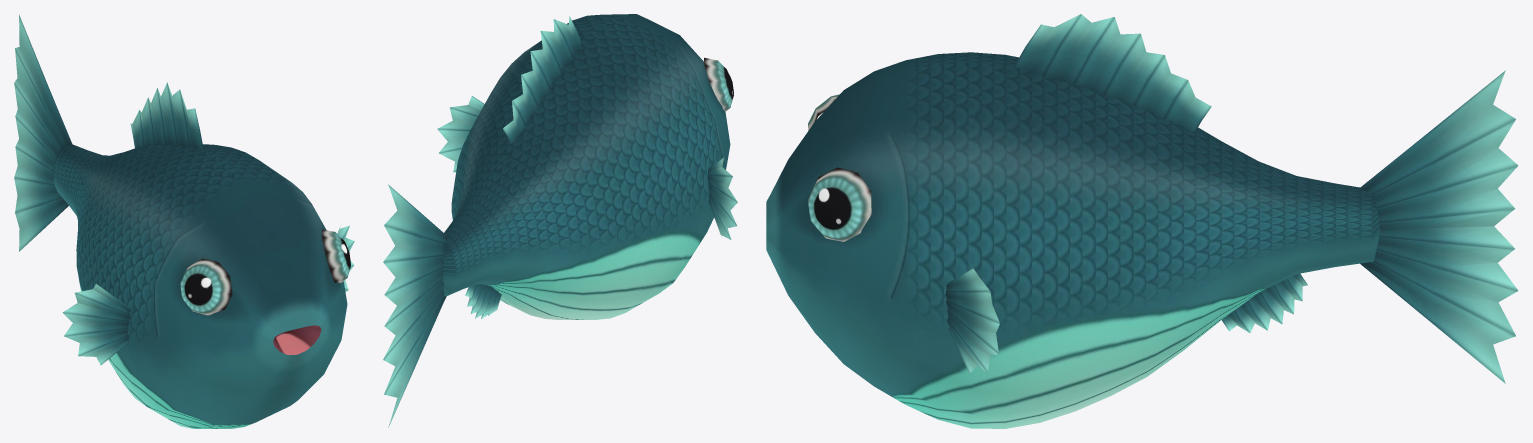
Rendered from glowbelly.glb.
3 views of the same model, side by side, from view 1: azimuth 30°, elevation 25°; view 2: azimuth 150°, elevation 25°; view 3: azimuth 270°, elevation 25° (orthographic). The views are drawn at different scales.
Visible parts, largest first — view 1: glowbelly; view 2: glowbelly; view 3: glowbelly.
Boxes of the visible parts, x1=… form: glowbelly: x1=14, y1=14, x2=354, y2=428; glowbelly: x1=383, y1=14, x2=737, y2=427; glowbelly: x1=766, y1=14, x2=1518, y2=428.
Bounding box in the file's own units: 0.5917 × 0.5925 × 1.
Materials: 1 (1 with a texture image).
